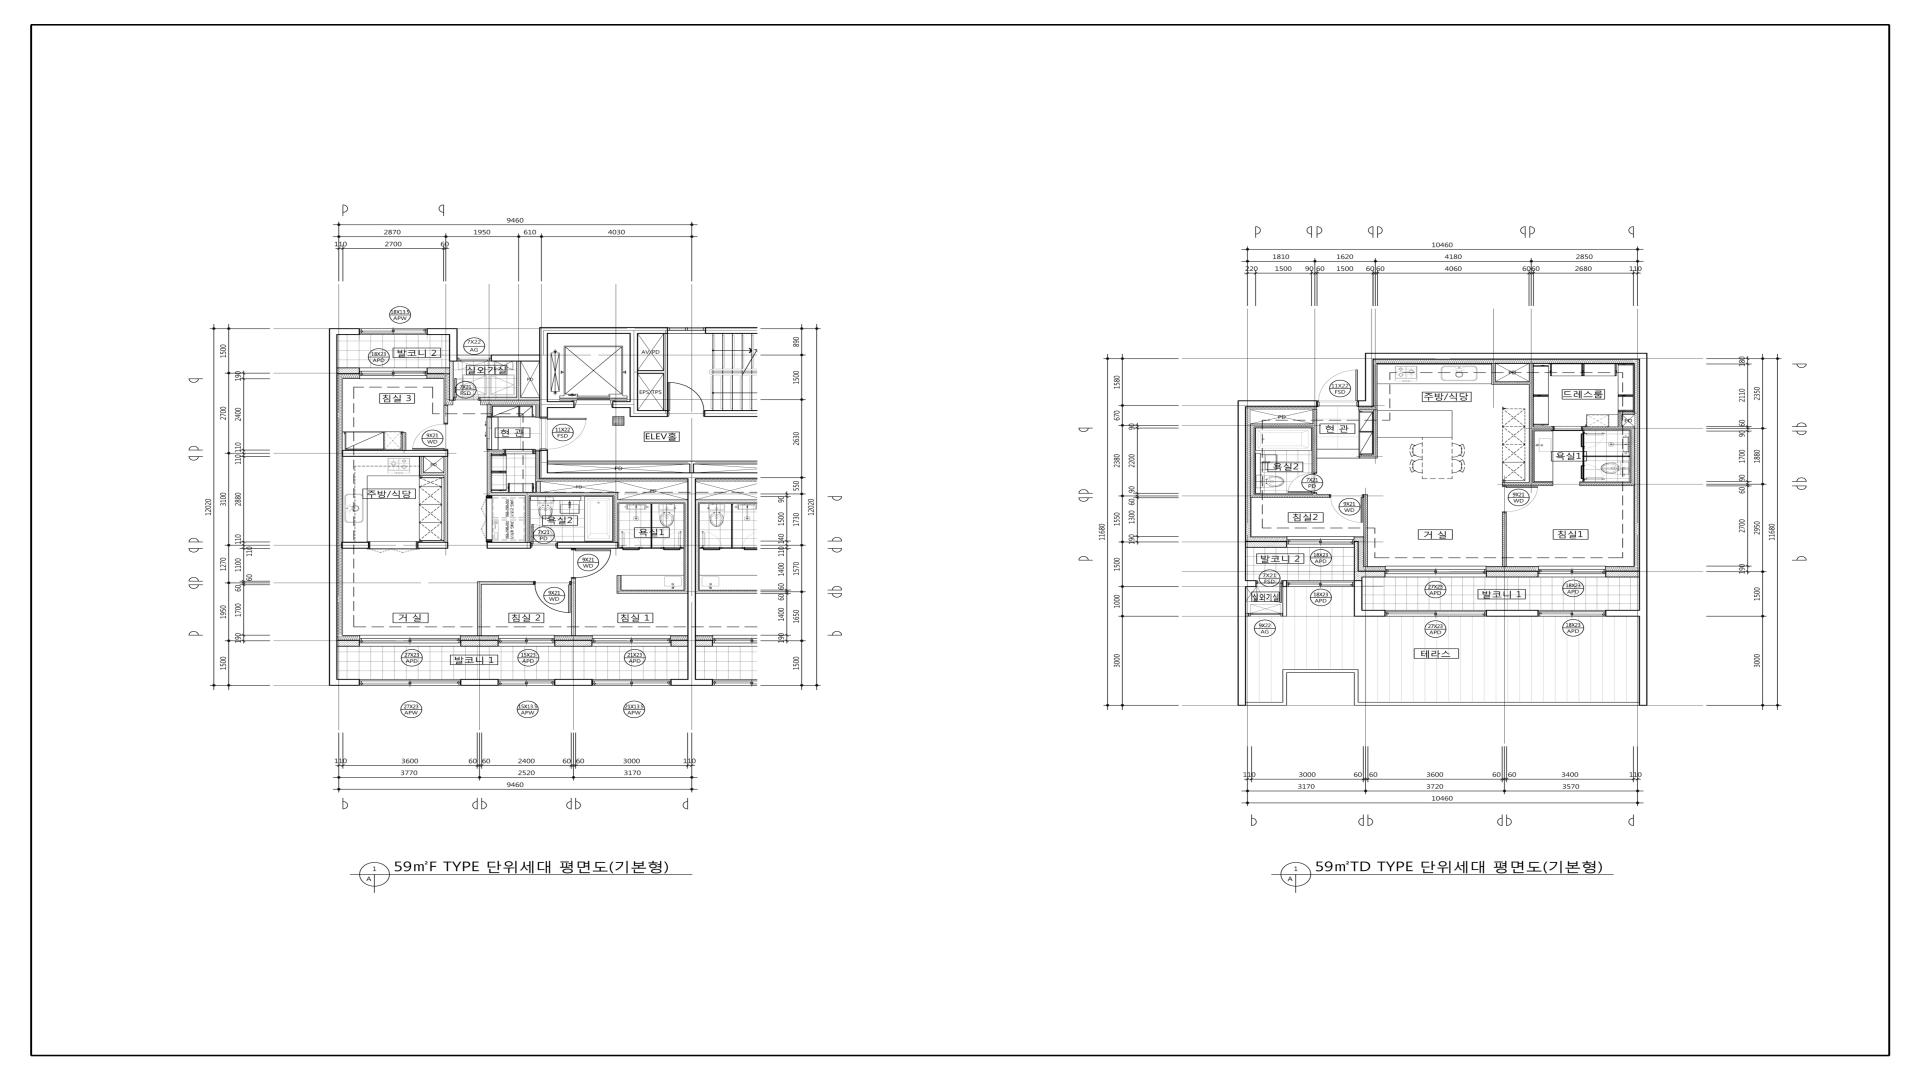door: (539, 417, 588, 450), (1317, 370, 1358, 407), (667, 382, 704, 417), (533, 581, 572, 613), (571, 549, 612, 579), (1502, 486, 1538, 513), (1330, 494, 1363, 523), (413, 423, 448, 450), (531, 524, 557, 548), (453, 378, 480, 401), (480, 495, 493, 542), (1288, 472, 1317, 493), (1256, 580, 1282, 603), (368, 541, 417, 553), (1581, 431, 1605, 449), (1581, 464, 1605, 481), (1551, 426, 1584, 431), (487, 417, 492, 450), (505, 449, 535, 454)
wall: (329, 335, 337, 679), (1639, 353, 1647, 617), (1365, 353, 1639, 360), (1237, 407, 1246, 617), (688, 479, 696, 679), (548, 473, 758, 479), (539, 327, 668, 334), (539, 334, 548, 417), (342, 450, 448, 457), (629, 334, 638, 410), (548, 461, 757, 464), (1529, 363, 1534, 486), (1238, 400, 1317, 407), (487, 492, 618, 496), (557, 542, 618, 549), (443, 457, 448, 542), (1365, 360, 1374, 407), (1250, 493, 1330, 498), (705, 327, 758, 334), (704, 410, 757, 417), (1363, 494, 1368, 567), (1486, 610, 1538, 617), (1486, 571, 1538, 577), (487, 542, 531, 549), (664, 334, 668, 410), (1354, 580, 1362, 617), (491, 355, 539, 361), (1246, 541, 1287, 548), (1250, 424, 1254, 494), (571, 579, 576, 635), (460, 679, 499, 686), (629, 410, 668, 417), (1502, 513, 1507, 567), (621, 590, 688, 594), (554, 679, 592, 686), (685, 503, 688, 590), (539, 450, 548, 479), (477, 585, 482, 636), (1313, 409, 1317, 472), (1606, 610, 1639, 617), (554, 640, 592, 646), (477, 581, 533, 585), (461, 640, 498, 646), (1580, 482, 1635, 486), (1631, 427, 1635, 482), (329, 679, 360, 686), (329, 328, 360, 335), (427, 328, 457, 335), (449, 335, 457, 361), (618, 500, 687, 503), (1606, 571, 1639, 577), (1373, 410, 1377, 458), (341, 542, 368, 549), (525, 495, 529, 542), (1354, 571, 1385, 577), (417, 542, 448, 548), (614, 496, 618, 542), (1282, 580, 1287, 616), (516, 362, 521, 398), (1254, 424, 1313, 427), (480, 398, 539, 401), (671, 679, 696, 686), (487, 450, 491, 493), (426, 367, 450, 374), (1362, 610, 1385, 617), (337, 640, 360, 647), (449, 361, 453, 401), (548, 402, 574, 408), (1491, 381, 1529, 385), (1354, 541, 1359, 571), (1584, 427, 1631, 430), (337, 368, 360, 374), (612, 401, 630, 408), (670, 640, 688, 647), (1502, 482, 1529, 486), (638, 370, 664, 374), (1491, 363, 1496, 381), (1533, 482, 1553, 486), (617, 575, 621, 594), (444, 405, 448, 424), (419, 457, 423, 476), (1246, 580, 1256, 587), (1618, 411, 1635, 415), (402, 433, 406, 450), (423, 473, 443, 476), (1534, 427, 1551, 430), (1358, 400, 1365, 407), (1618, 415, 1622, 427), (487, 404, 491, 416), (1584, 456, 1630, 457), (491, 450, 505, 453), (689, 464, 694, 472), (1360, 455, 1373, 458), (1582, 449, 1584, 464), (1354, 577, 1362, 580), (1246, 613, 1249, 616)
window: (359, 635, 461, 646), (1385, 566, 1486, 577), (592, 635, 670, 646), (1287, 536, 1354, 548), (1538, 566, 1606, 577), (359, 368, 427, 379), (360, 679, 460, 686), (498, 635, 554, 646), (1385, 610, 1486, 616), (359, 328, 427, 335), (592, 680, 671, 686), (1287, 580, 1354, 587), (1538, 610, 1606, 616), (498, 679, 554, 686), (457, 355, 491, 361), (1249, 613, 1283, 616)
